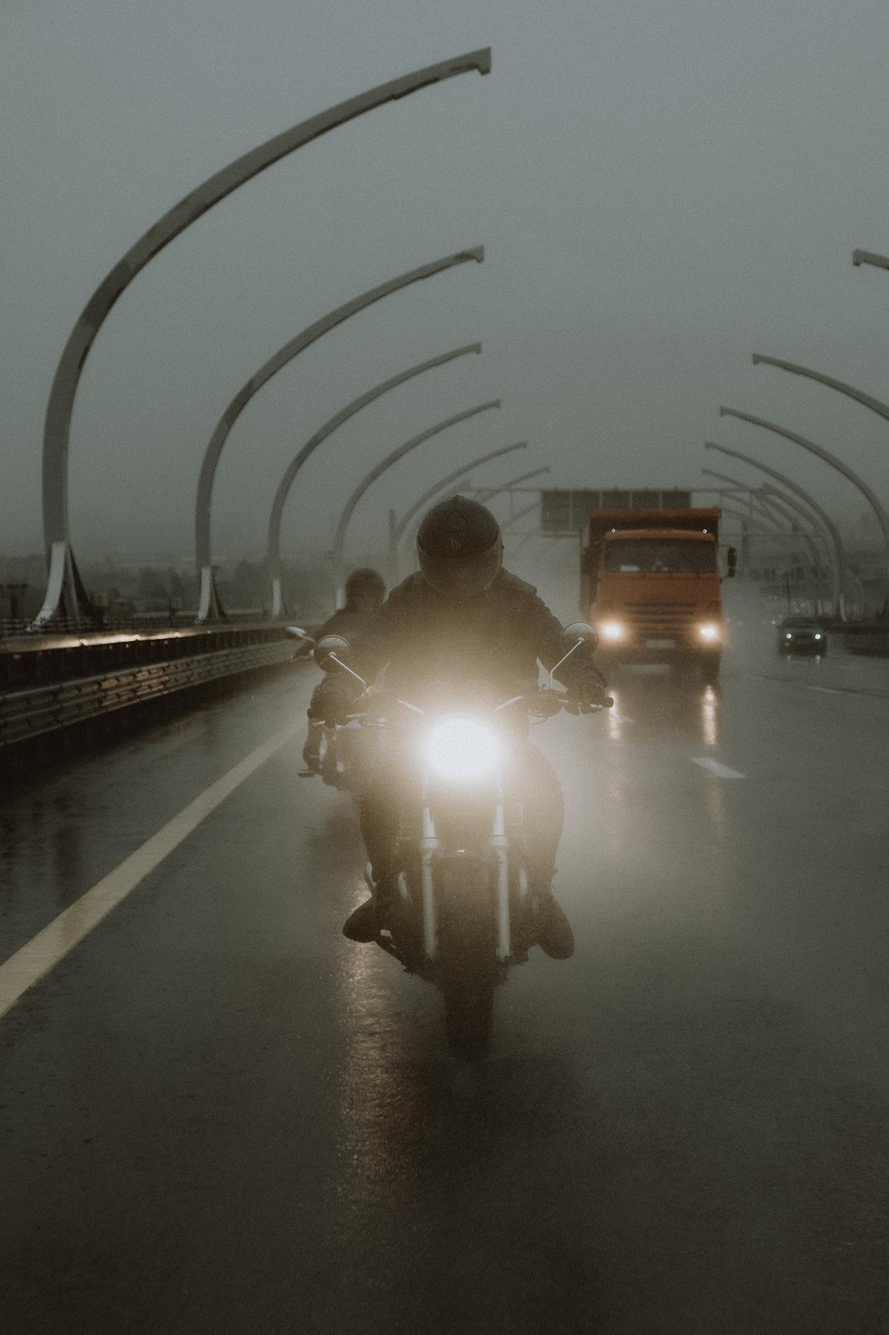helmet: (416, 493, 506, 605)
